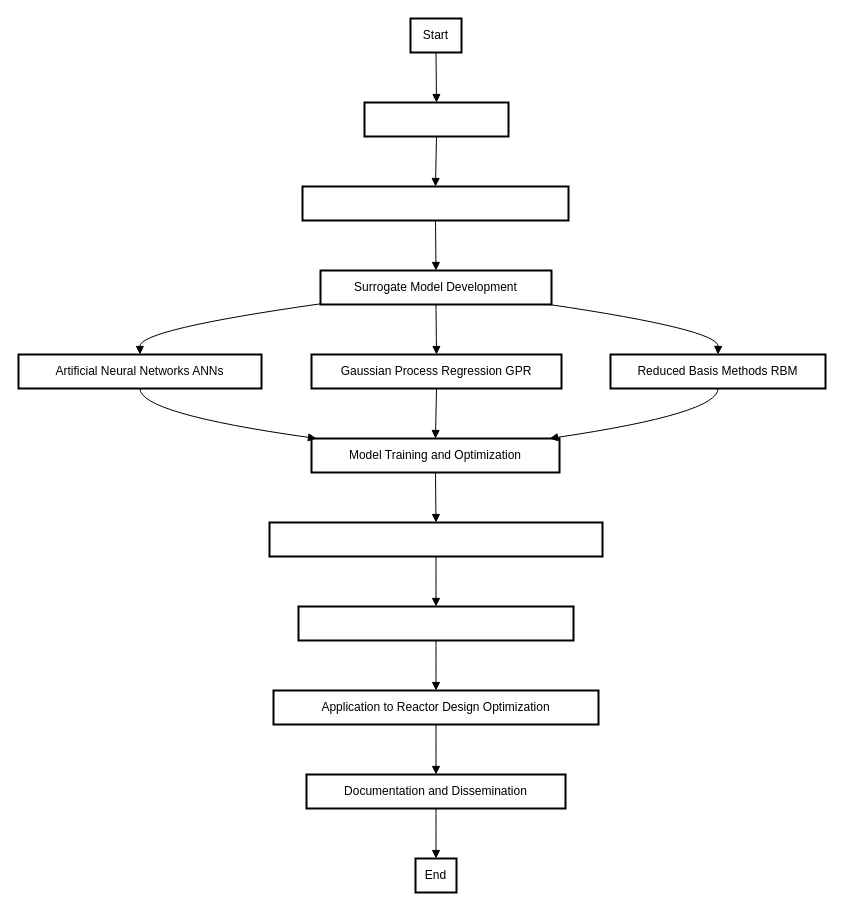
Some shapes in this 843 by 910 pixel diagram are drawn without their labels. The box of each missing label's shape, as (x1, y1, x2, y2) in pixels:
Data Generation and Preprocessing: (301, 185, 569, 221)
Integration with Large-scale Modeling Codes: (268, 521, 603, 557)
Literature Review: (363, 101, 509, 137)
Validation and Performance Analysis: (297, 605, 574, 641)
